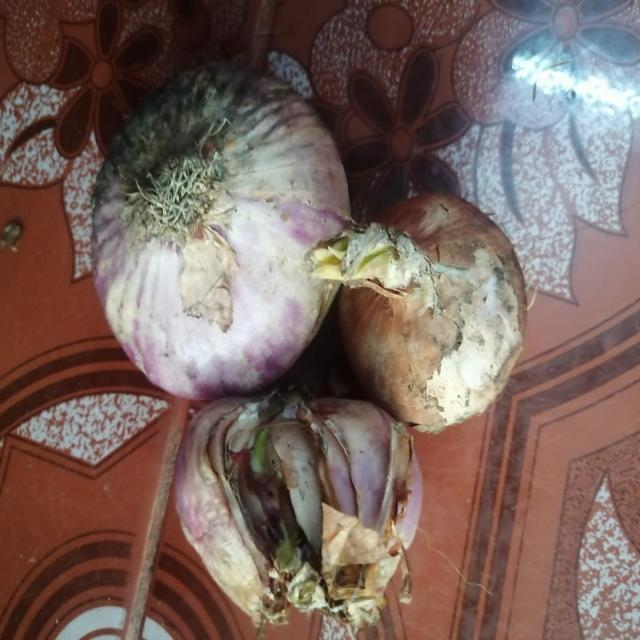rotten: (109, 81, 298, 168), (236, 426, 331, 568)
sprouting: (303, 242, 402, 290)
